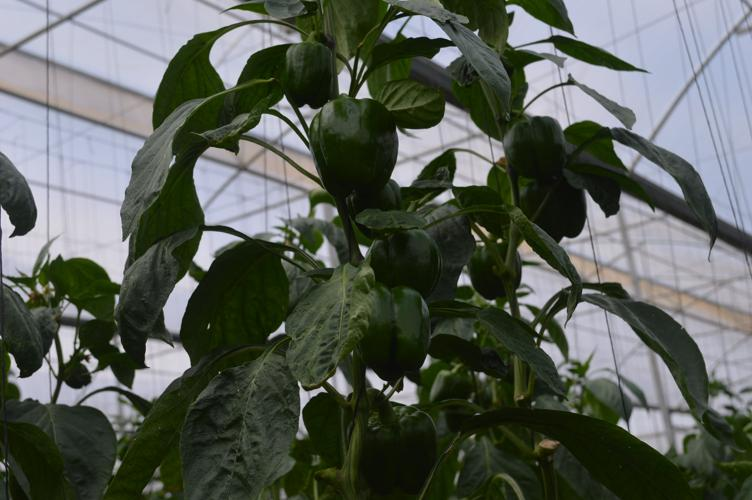BellPepper: (301, 97, 401, 196), (342, 405, 441, 494), (348, 287, 427, 379), (361, 227, 440, 296), (514, 178, 586, 244), (497, 116, 570, 176), (282, 41, 338, 110), (466, 245, 524, 301), (345, 179, 404, 232), (435, 369, 487, 421)
